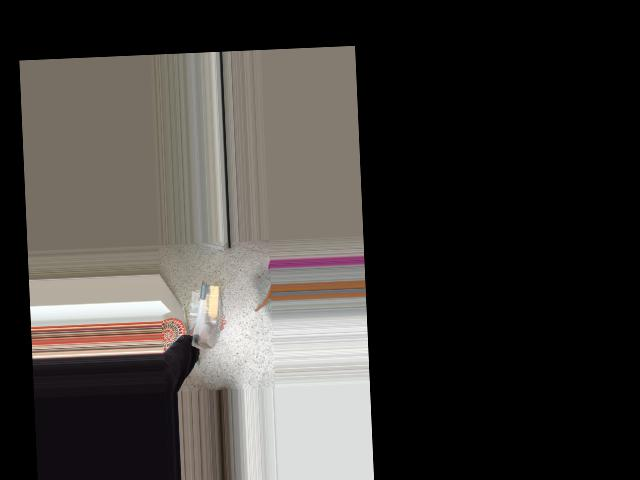cheese: (186, 282, 225, 352)
